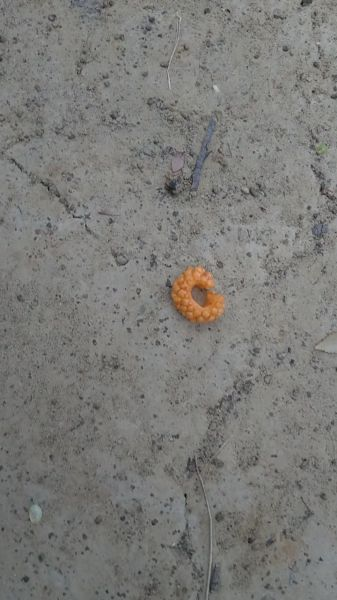eggs: (170, 260, 224, 332)
